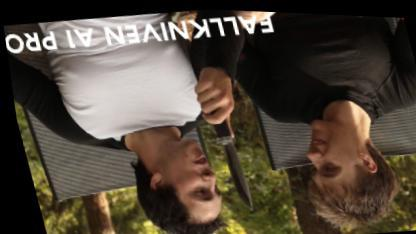knife: (186, 80, 257, 216)
